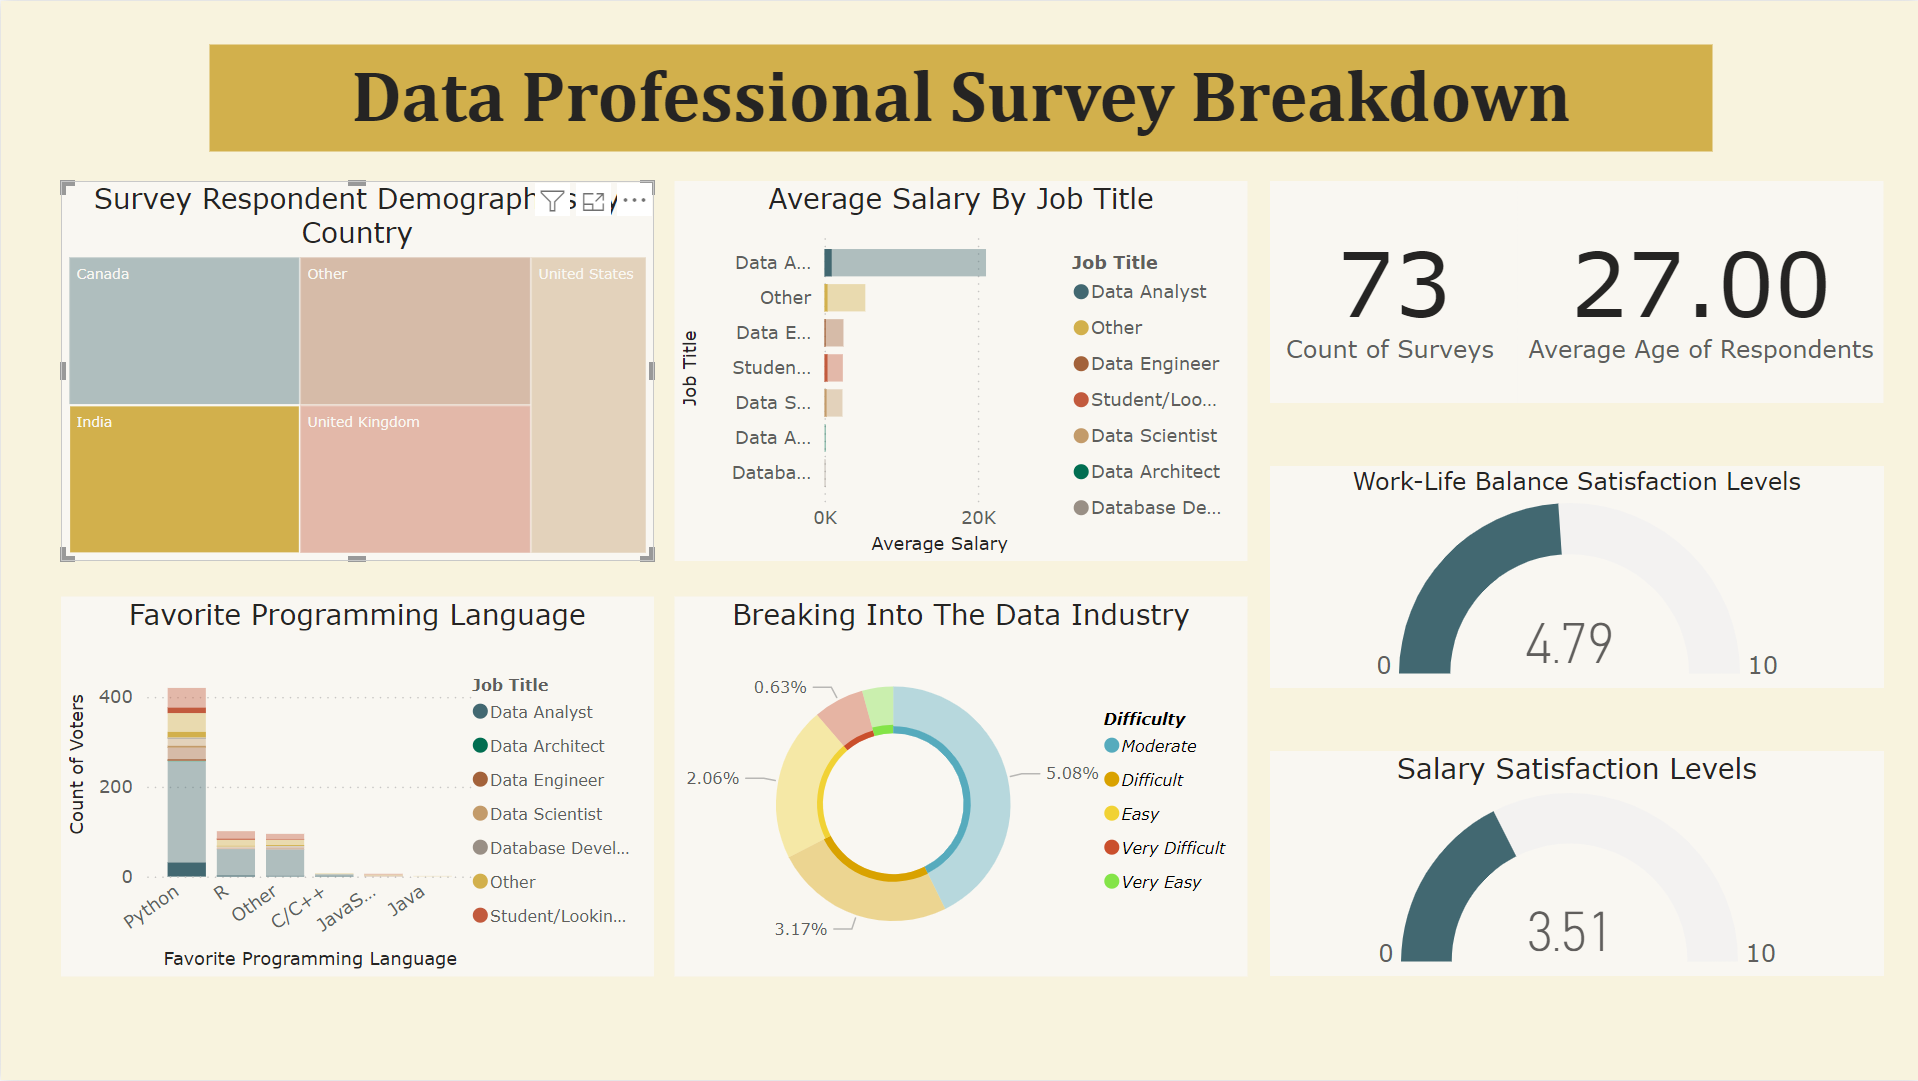

What the dashboard file says about the page in this screenshot:
{"tool":"powerbi","page":{"name":"Page 1","canvas":[1280,720],"ordinal":0},"visuals":[{"type":"textbox","box":[139,29,1002,71],"z":0},{"type":"card","fields":{"Values":["Count(Data Professional Survey.Unique ID)"]},"box":[846,120,165,148],"z":1000},{"type":"card","fields":{"Values":["Avg(Data Professional Survey.Q10 - Current Age)"]},"box":[1011,120,244,148],"z":2000},{"type":"barChart","title":"Average Salary By Job Title","fields":{"Category":["Data Professional Survey.Q1 - Which Title Best Fits your Current Role?.1"],"Y":["Avg(Data Professional Survey.Average Salary)"],"Series":["Data Professional Survey.Q1 - Which Title Best Fits your Current Role?.1"]},"box":[449,120,382,253],"z":3000},{"type":"columnChart","title":"Favorite Programming Language ","fields":{"Category":["Data Professional Survey.Q5 - Favorite Programming Language.1"],"Y":["CountNonNull(Data Professional Survey.Unique ID)"],"Series":["Data Professional Survey.Q1 - Which Title Best Fits your Current Role?.1"]},"box":[40,397.3,395.5,252.7],"z":4000},{"type":"treemap","title":"Survey Respondent Demographics by Country","fields":{"Group":["Data Professional Survey.Q11 - Which Country do you live in?.1"],"Values":["Count(Data Professional Survey.Q11 - Which Country do you live in?.1)"]},"box":[40,120,395,253],"z":5000},{"type":"gauge","title":"Salary Satisfaction Levels","fields":{"Y":["Avg(Data Professional Survey.Q6 - How Happy are you in your Current Position with the following? (Salary))"],"MinValue":["Min(Data Professional Survey.Q6 - How Happy are you in your Current Position with the following? (Salary))"],"MaxValue":["Max(Data Professional Survey.Q6 - How Happy are you in your Current Position with the following? (Salary))"]},"box":[846,500,409,150],"z":6000},{"type":"gauge","title":"Work-Life Balance Satisfaction Levels","fields":{"Y":["Avg(Data Professional Survey.Q6 - How Happy are you in your Current Position with the following? (Work/Life Balance))"],"MaxValue":["Max(Data Professional Survey.Q6 - How Happy are you in your Current Position with the following? (Work/Life Balance))1"],"MinValue":["Min(Data Professional Survey.Q6 - How Happy are you in your Current Position with the following? (Work/Life Balance))"]},"box":[846,310,409,148],"z":7000},{"type":"donutChart","title":"Breaking Into The Data Industry","fields":{"Y":["CountNonNull(Data Professional Survey.Q7 - How difficult was it for you to break into Data? - Copy)"],"Category":["Data Professional Survey.Q7 - How difficult was it for you to break into Data? - Copy"]},"box":[449.1,397.3,381.8,252.7],"z":8000}]}

Visuals, with their boxes in screenshot pixels (x1, y1, x2, y2), scaled from the page's 1280x720 canvas onto the 1918x1081 screenshot:
textbox: <box>208,44,1710,150</box>
card - Count(Data Professional Survey.Unique ID): <box>1268,180,1515,402</box>
card - Avg(Data Professional Survey.Q10 - Current Age): <box>1515,180,1881,402</box>
"Average Salary By Job Title" barChart: <box>673,180,1245,560</box>
"Favorite Programming Language " columnChart: <box>60,597,653,976</box>
"Survey Respondent Demographics by Country" treemap: <box>60,180,652,560</box>
"Salary Satisfaction Levels" gauge: <box>1268,751,1881,976</box>
"Work-Life Balance Satisfaction Levels" gauge: <box>1268,465,1881,688</box>
"Breaking Into The Data Industry" donutChart: <box>673,597,1245,976</box>
